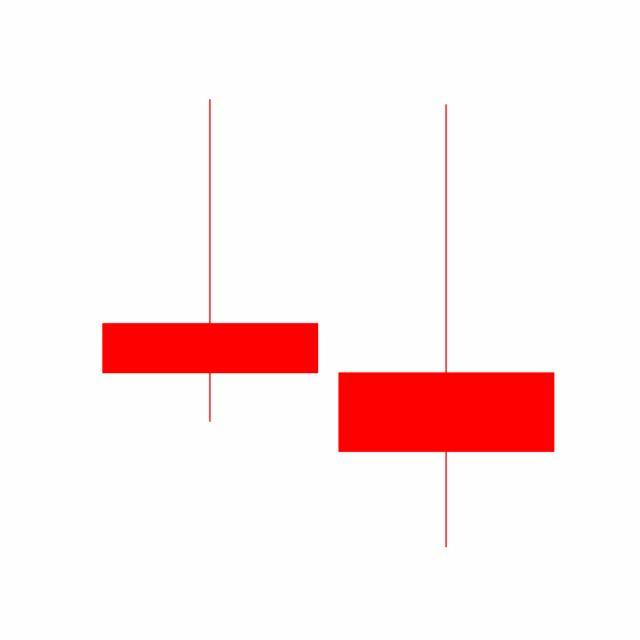Spinning Top: (328, 101, 566, 554)
